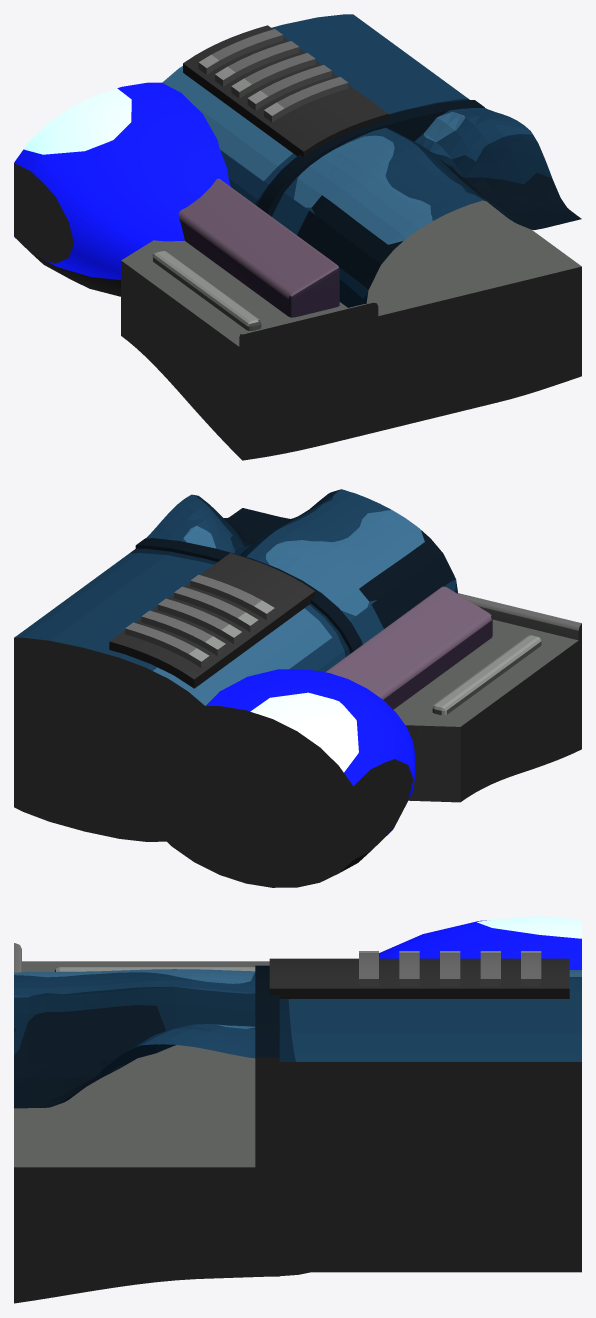
Rendered from camanis_boss_79.glb.
The picture shows the model from 3 angles, top to bottom: view 1: azimuth 30°, elevation 25°; view 2: azimuth 150°, elevation 25°; view 3: azimuth 270°, elevation 25°; orthographic projection. The views are drawn at different scales.
Visible parts, largest first — view 1: camanis_boss_79; view 2: camanis_boss_79; view 3: camanis_boss_79.
Boxes of the visible parts, <box> form: camanis_boss_79: <box>14,14,581,460</box>; camanis_boss_79: <box>14,489,581,887</box>; camanis_boss_79: <box>14,916,581,1303</box>.
Size of the model in its own units: 24 by 14.92 by 28.
